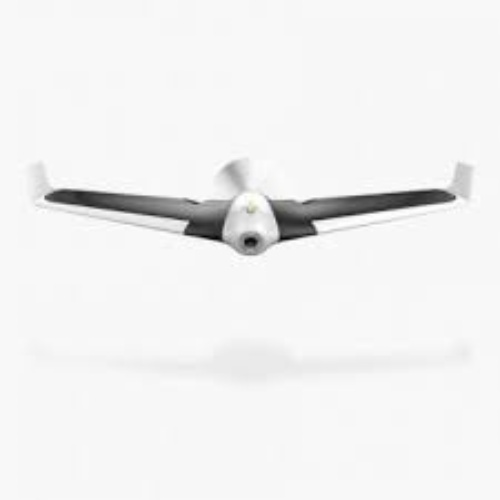uav730: (25, 158, 474, 261)
